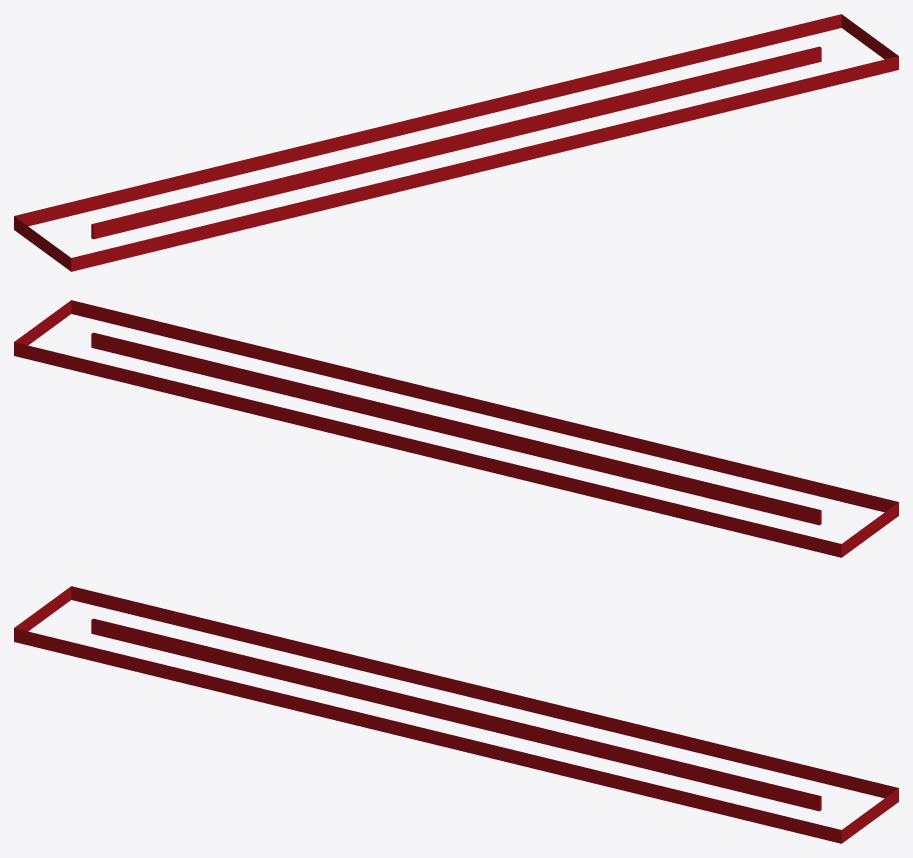
File: borders.gltf
3 renders of one model, top to bottom at view 1: azimuth 30°, elevation 25°; view 2: azimuth 150°, elevation 25°; view 3: azimuth 330°, elevation 25°, orthographic.
Visible parts, largest first — view 1: BorderExt, BorderInt; view 2: BorderExt, BorderInt; view 3: BorderExt, BorderInt.
Part boxes in pixels (x1=…): BorderExt: x1=14, y1=14, x2=898, y2=271; BorderInt: x1=91, y1=46, x2=821, y2=239; BorderExt: x1=14, y1=300, x2=898, y2=557; BorderInt: x1=91, y1=332, x2=821, y2=525; BorderExt: x1=14, y1=586, x2=898, y2=843; BorderInt: x1=91, y1=618, x2=821, y2=811.
Bounding box in the file's own units: 25 × 0.4 × 3.
Materials: 1 (1 with a texture image).
